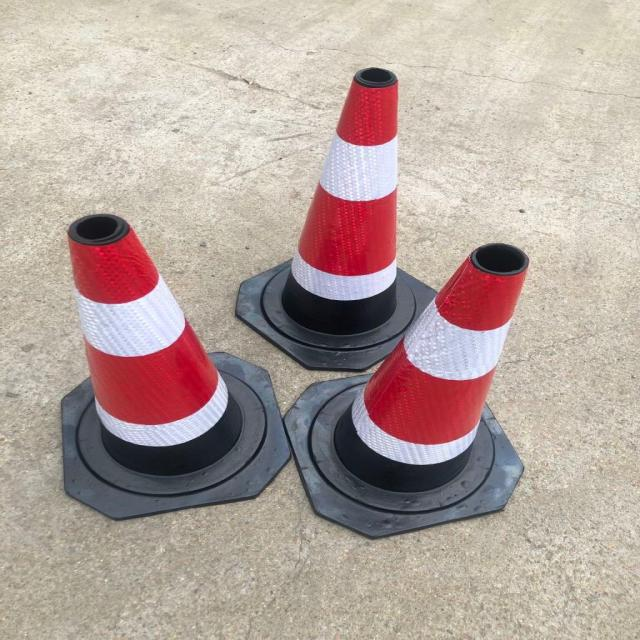reflective_cone: (278, 244, 527, 537), (62, 217, 286, 519), (226, 70, 438, 372)
